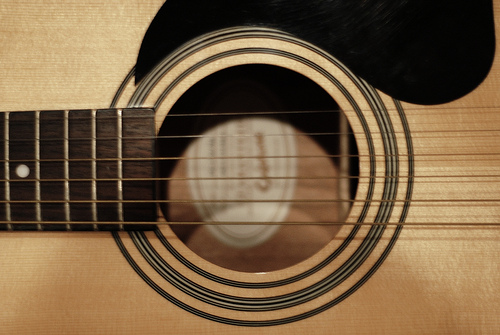guitar: (2, 1, 500, 328)
